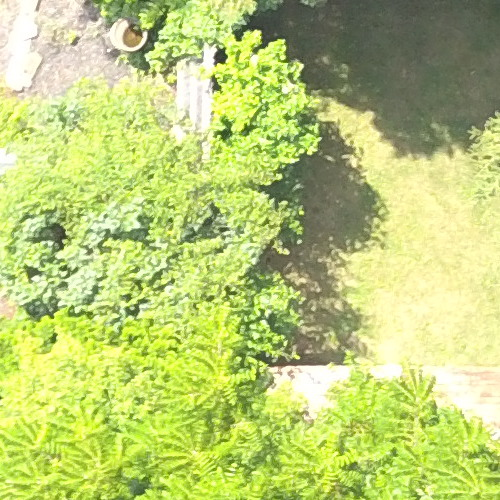bird bath: (102, 9, 151, 58)
